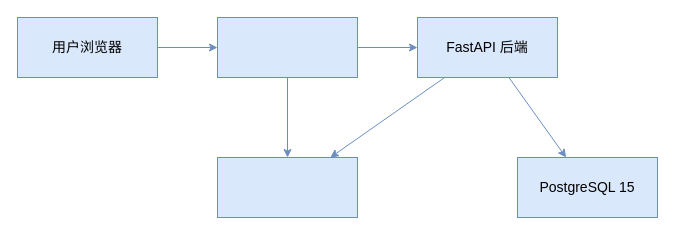
This 675x235 diagram has some shape labels left out. The centre of each missing label's shape, as x and y in pixels:
Next.js 前端（公开站 + 后台管理，同一工程）: the point at 287,47
静态文件存储（uploads/ 目录，挂载到 api 容器）: the point at 287,187
